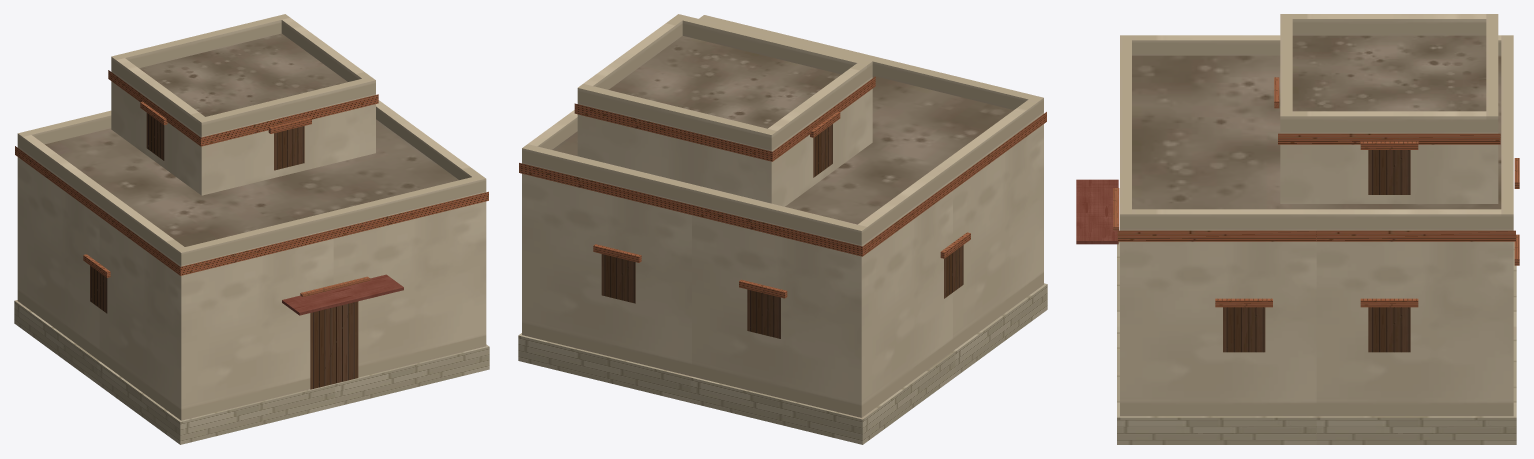
File: ae_sand_stone_large_terrace_lod1.glb
3 renders of one model, left to right at view 1: azimuth 30°, elevation 25°; view 2: azimuth 150°, elevation 25°; view 3: azimuth 270°, elevation 25°, orthographic. The views are drawn at different scales.
Visible parts, largest first — view 1: ae_sand_stone_large_terrace_lod1; view 2: ae_sand_stone_large_terrace_lod1; view 3: ae_sand_stone_large_terrace_lod1.
Part boxes in pixels (box(x1,y1,x2,y2)): ae_sand_stone_large_terrace_lod1: box(14, 14, 489, 444); ae_sand_stone_large_terrace_lod1: box(518, 14, 1047, 444); ae_sand_stone_large_terrace_lod1: box(1076, 14, 1519, 444).
Bounding box in the file's own units: 7.2 × 5.5 × 7.32.
1 material, 1 textured.
